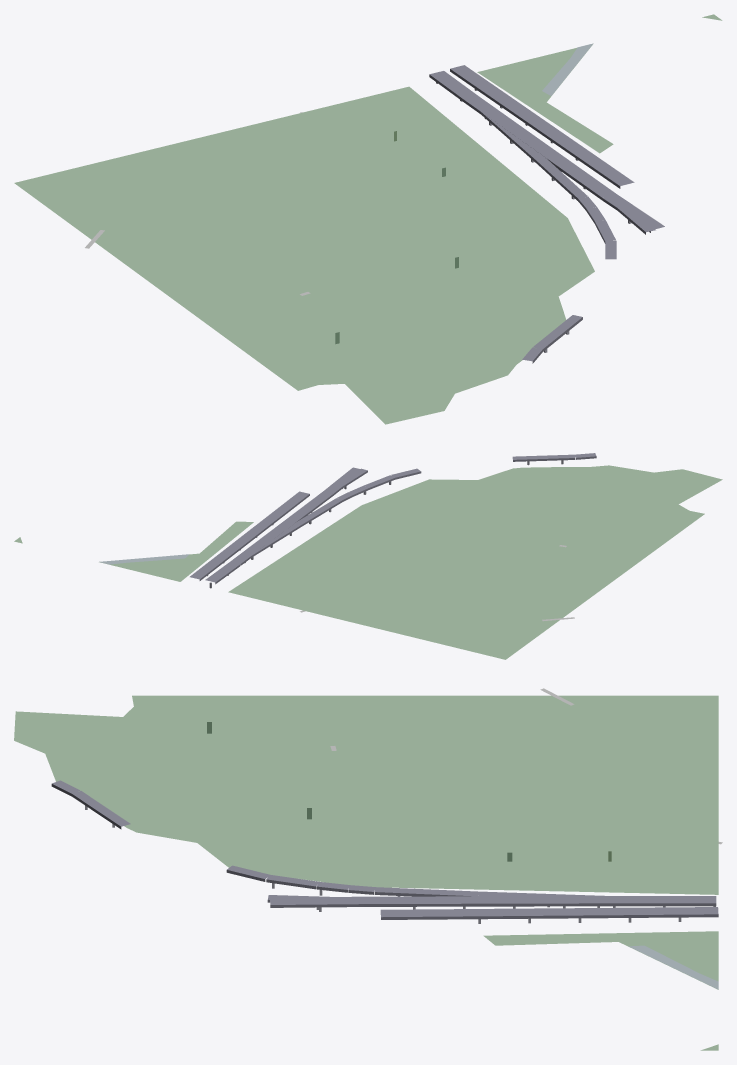
3 views of the same model, one above another, from view 1: azimuth 30°, elevation 25°; view 2: azimuth 150°, elevation 25°; view 3: azimuth 270°, elevation 25° (orthographic). The views are drawn at different scales.
Size of the model in its own units: 510 by 9.77 by 425.
